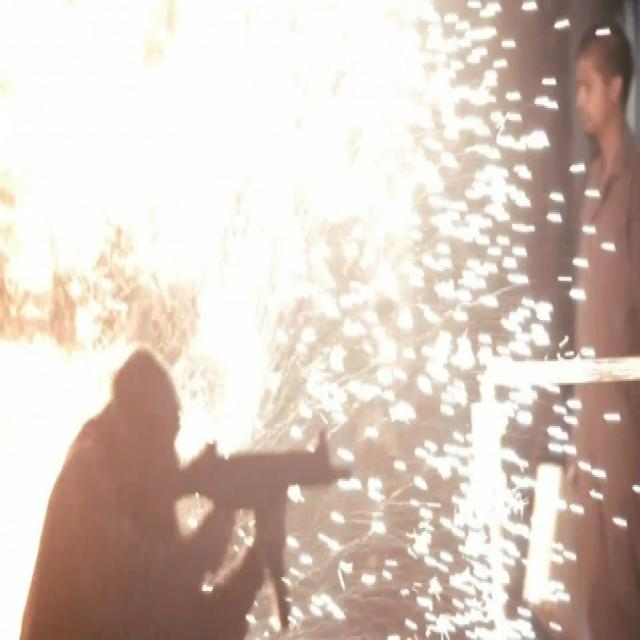rifle: (176, 425, 362, 628)
